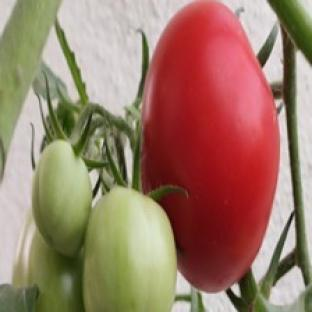Tomato: (84, 187, 176, 311), (13, 211, 84, 311), (33, 140, 91, 256)
